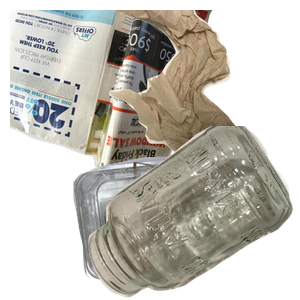glass: (86, 126, 300, 300)
paper: (10, 10, 215, 186)
plastic: (71, 154, 300, 300)
trash: (103, 10, 300, 173)
